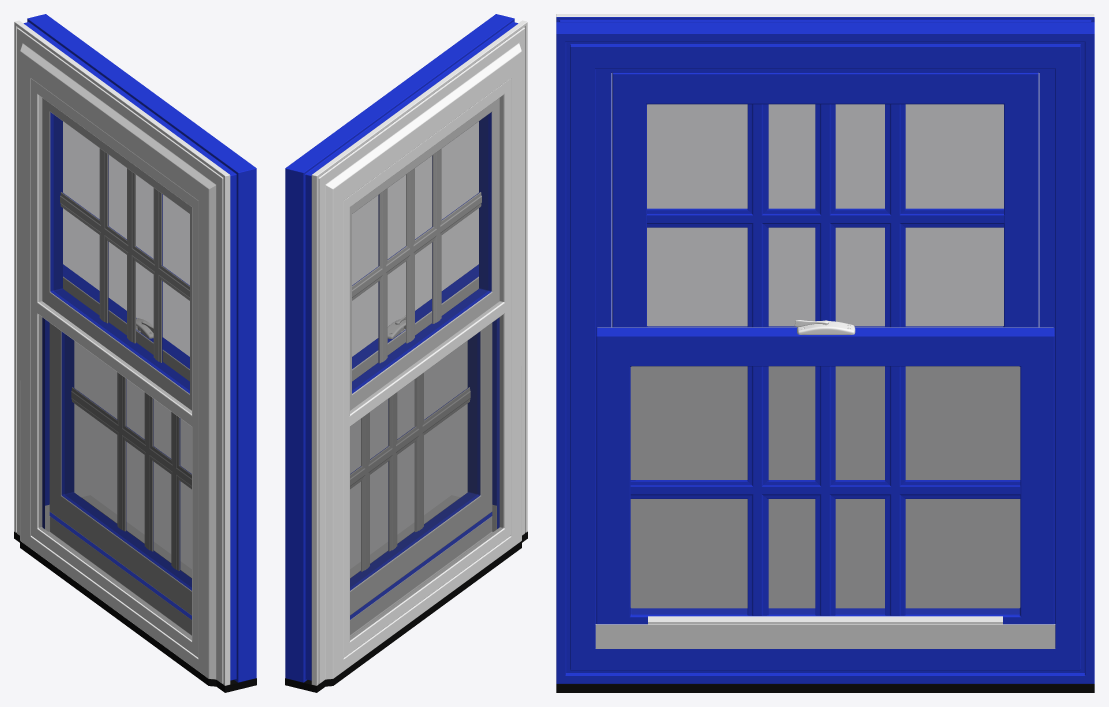
The model's file is TitanEdge.glb.
3 renders of one model, left to right at view 1: azimuth 30°, elevation 25°; view 2: azimuth 150°, elevation 25°; view 3: azimuth 270°, elevation 25°, orthographic. The views are drawn at different scales.
Parts seen in each view (by area): view 1: screen_glass1_full, window, screen_glass1_half, glass1, screen_frame_full, frame2, frame1, screen_frame_half, contour0_up, contour2_up, contour1_down, contour2_down (+2 smaller); view 2: screen_glass1_full, window, screen_glass1_half, glass1, frame2, screen_frame_full, frame1, screen_frame_half, contour0_up, contour2_up, contour1_down, contour2_down (+3 smaller); view 3: window, screen_glass1_full, glass2, screen_glass1_half, glass1, frame2, frame1, contour1_down, Cube.011, contour0_up, contour2_down, contour2_up (+6 smaller).
Part boxes in pixels (<box>): screen_glass1_full: <box>39,96,191,639</box>; window: <box>14,14,256,685</box>; screen_glass1_half: <box>39,315,191,639</box>; glass1: <box>54,115,189,389</box>; screen_frame_full: <box>31,78,198,657</box>; frame2: <box>49,264,191,615</box>; frame1: <box>42,98,191,410</box>; screen_frame_half: <box>31,299,197,640</box>; contour0_up: <box>60,168,189,343</box>; contour2_up: <box>99,148,162,362</box>; contour1_down: <box>71,388,191,551</box>; contour2_down: <box>117,372,179,570</box>; screen_glass1_full: <box>350,96,502,639</box>; window: <box>285,14,527,685</box>; screen_glass1_half: <box>350,315,502,639</box>; glass1: <box>352,115,487,389</box>; frame2: <box>350,264,492,615</box>; screen_frame_full: <box>343,78,510,657</box>; frame1: <box>350,98,499,410</box>; screen_frame_half: <box>344,299,510,640</box>; contour0_up: <box>352,168,481,343</box>; contour2_up: <box>379,149,441,363</box>; contour1_down: <box>350,388,470,551</box>; contour2_down: <box>362,373,423,571</box>; window: <box>556,14,1094,683</box>; screen_glass1_full: <box>631,105,1019,607</box>; glass2: <box>631,366,1019,614</box>; screen_glass1_half: <box>631,367,1019,607</box>; glass1: <box>647,104,1003,326</box>; frame2: <box>596,327,1054,624</box>; frame1: <box>612,72,1038,327</box>; contour1_down: <box>630,366,1020,615</box>; Cube.011: <box>595,624,1055,648</box>; contour0_up: <box>646,104,1004,321</box>; contour2_down: <box>747,366,905,615</box>; contour2_up: <box>747,104,905,327</box>.
Bounding box in the file's own units: 0.0663 × 0.7181 × 0.5315.
